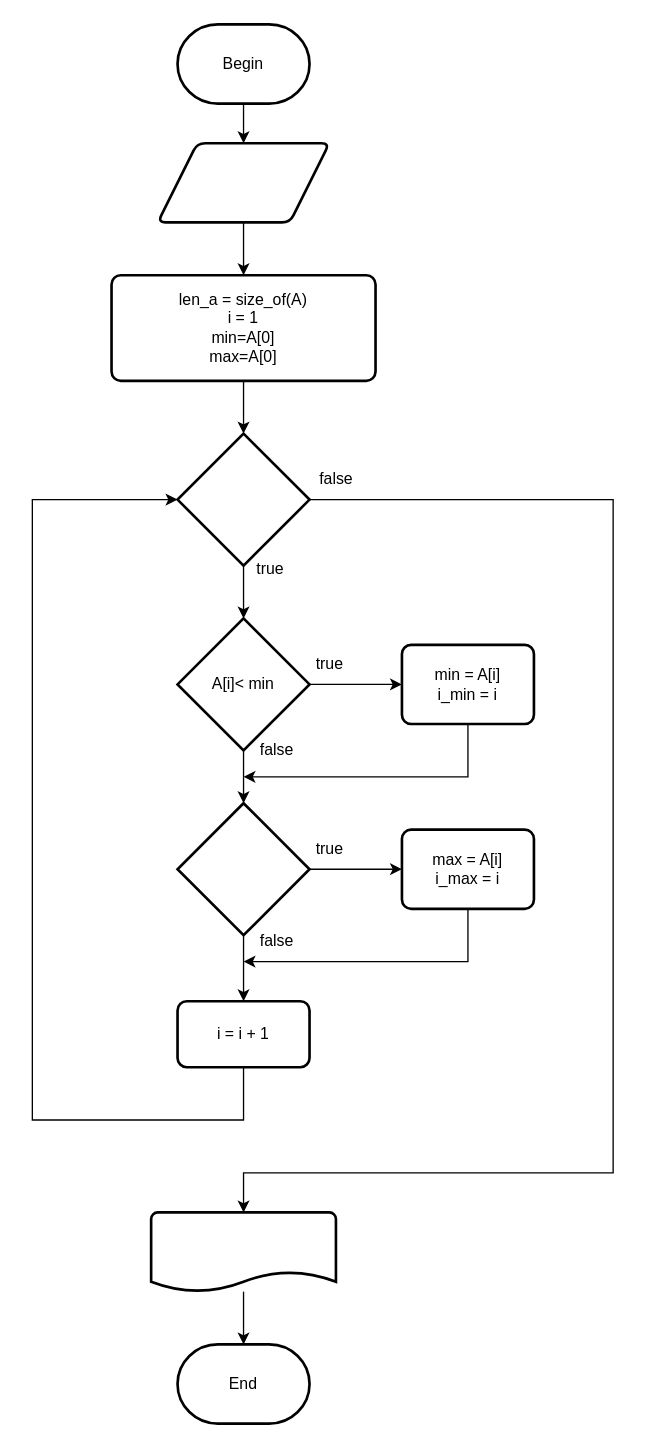
The diagram is 647 pixels wide and 1447 high, and some of its shapes have lost their labels. Here are the shapes that lost their labels. From the top down, the centre of each, then its label:
At (243,182): "input(array A)".
At (243,499): "i < len_a".
At (243,868): "A[i]> max".
At (243,1251): "print(i_min, i_max)".
